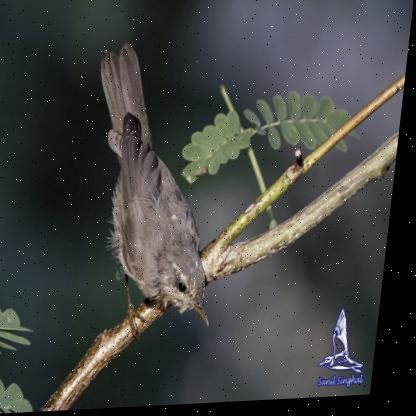Burung: (75, 37, 244, 341)
